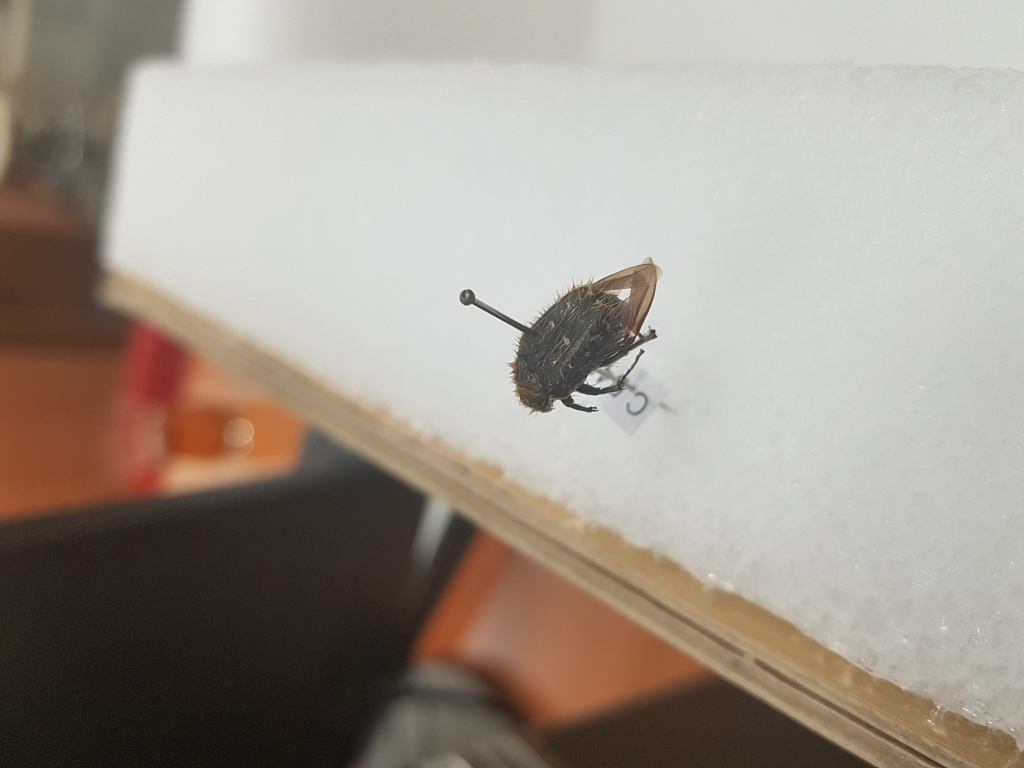Tropinota_hirta: (497, 249, 678, 417)
